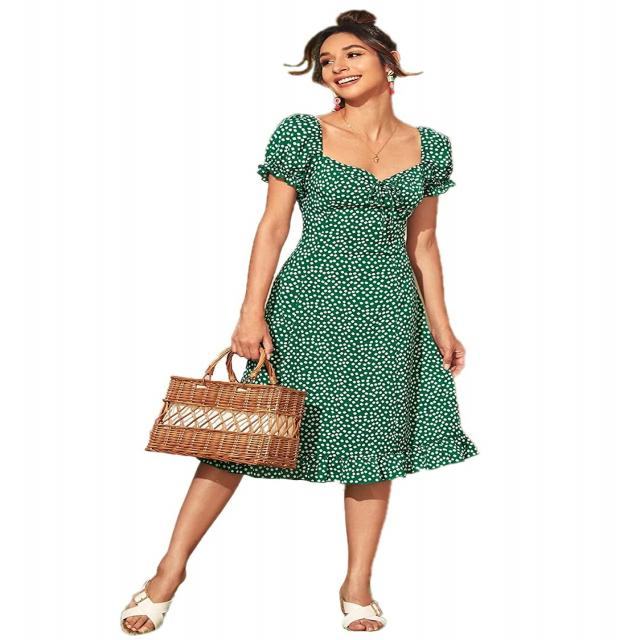clothes: (193, 100, 522, 495)
